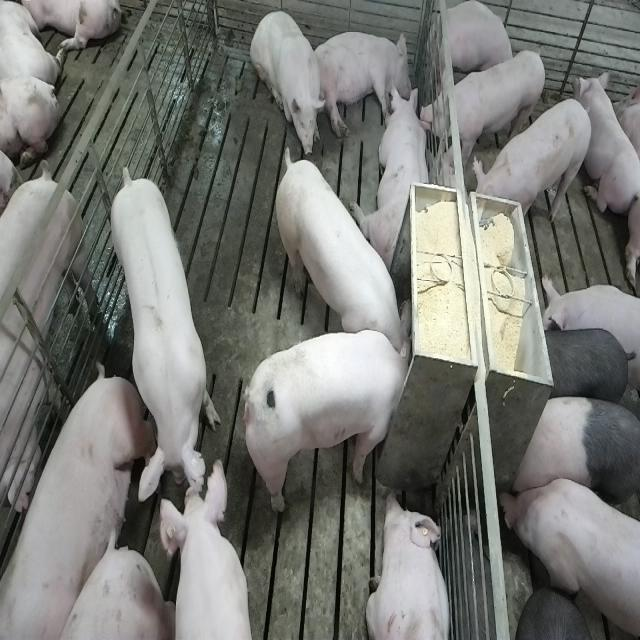Feeding: (248, 328, 421, 518), (273, 142, 409, 356)
Lateral_lying: (4, 365, 151, 640), (309, 28, 413, 138)
Sitting: (251, 8, 327, 158)
Standing: (107, 165, 220, 511), (0, 172, 98, 523), (500, 475, 638, 640), (153, 459, 252, 640), (471, 96, 594, 233), (510, 392, 638, 518), (420, 45, 548, 164), (531, 324, 637, 412)
Sternal_lying: (357, 85, 433, 270), (366, 489, 453, 640), (576, 70, 638, 222), (434, 2, 514, 86)
